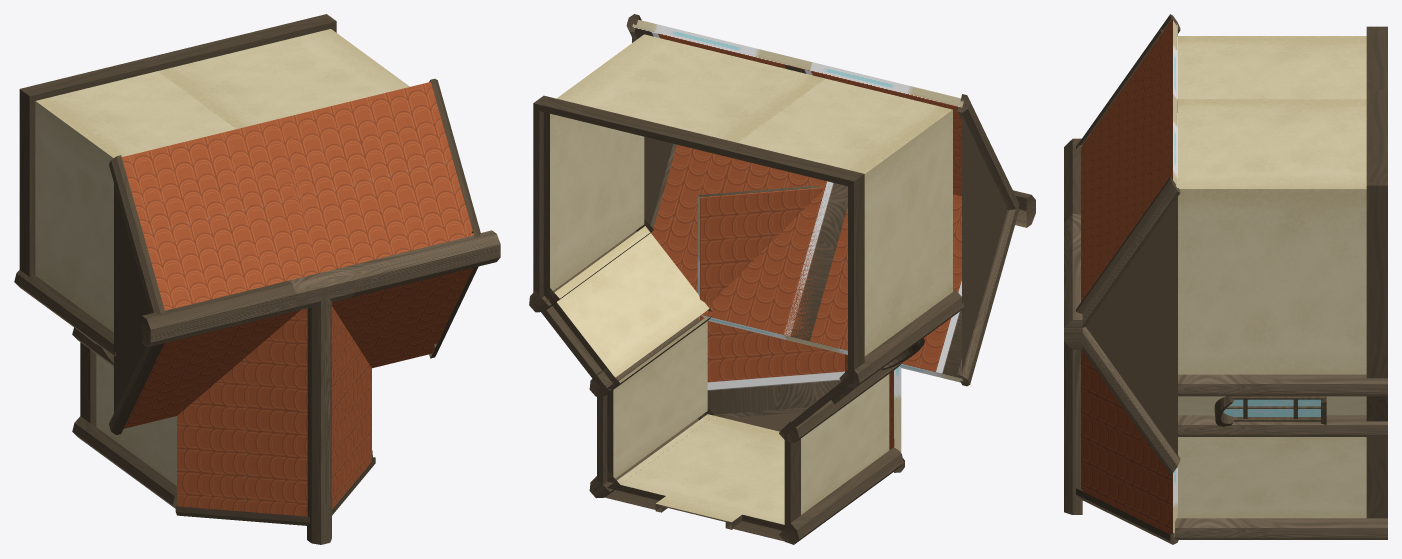
The model's file is HouseLittle.fbx.
The picture shows the model from 3 angles, left to right: view 1: azimuth 30°, elevation 25°; view 2: azimuth 150°, elevation 25°; view 3: azimuth 270°, elevation 25°; orthographic projection. The views are drawn at different scales.
Visible parts, largest first — view 1: HouseLittle3; view 2: HouseLittle3; view 3: HouseLittle3.
Boxes of the visible parts, box(x1,y1,x2,y2) form: HouseLittle3: box(14, 14, 500, 544); HouseLittle3: box(529, 14, 1035, 544); HouseLittle3: box(1064, 14, 1387, 544).
Bounding box in the file's own units: 6.04 × 6.43 × 4.56.
1 material, 1 textured.
